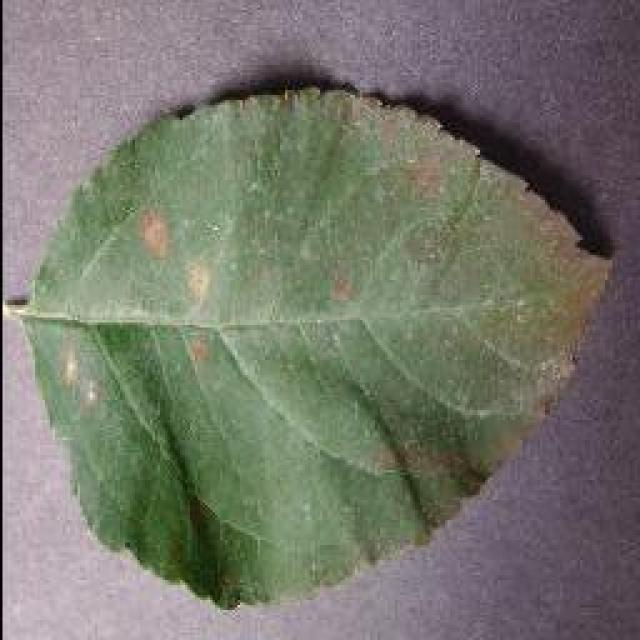apple rust disease: (7, 80, 615, 610)
